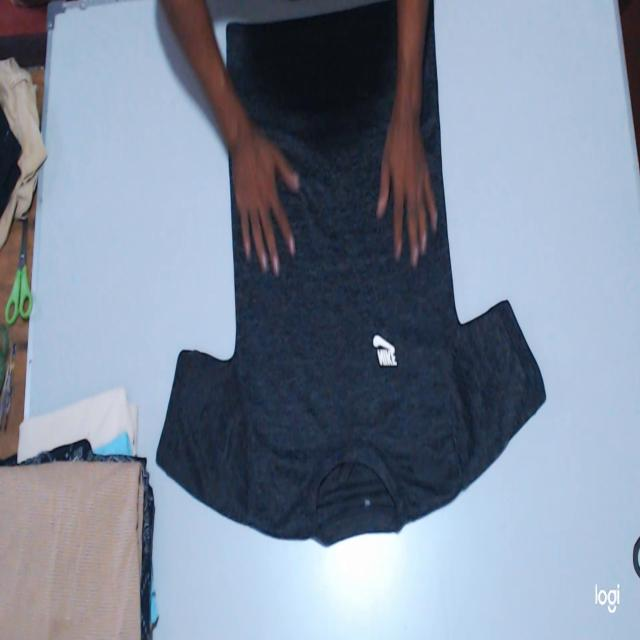new-garment: (157, 0, 545, 545)
